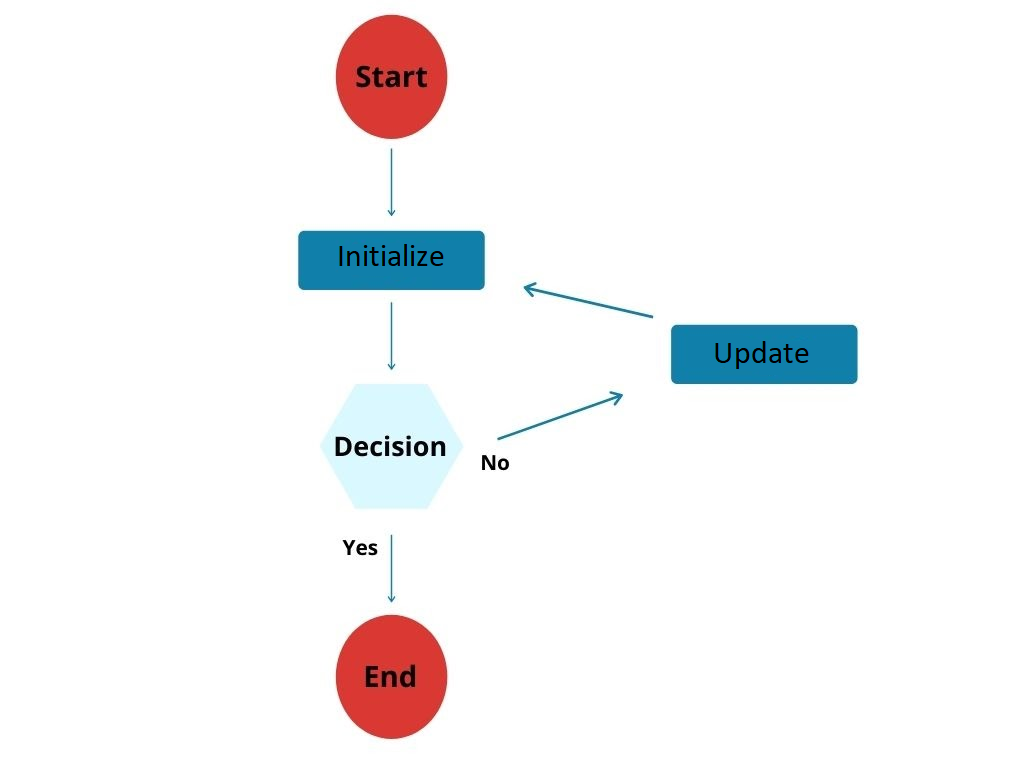arrow: (489, 383, 625, 447), (514, 276, 661, 327), (383, 143, 400, 219), (383, 297, 399, 376), (382, 528, 396, 606)
process: (319, 378, 468, 515), (331, 10, 453, 146), (332, 612, 450, 742), (293, 226, 489, 296), (668, 321, 862, 391)
text: (327, 429, 452, 465), (331, 242, 447, 272), (710, 338, 813, 371), (353, 56, 429, 96), (360, 661, 418, 689), (338, 533, 379, 558), (477, 448, 511, 478)
